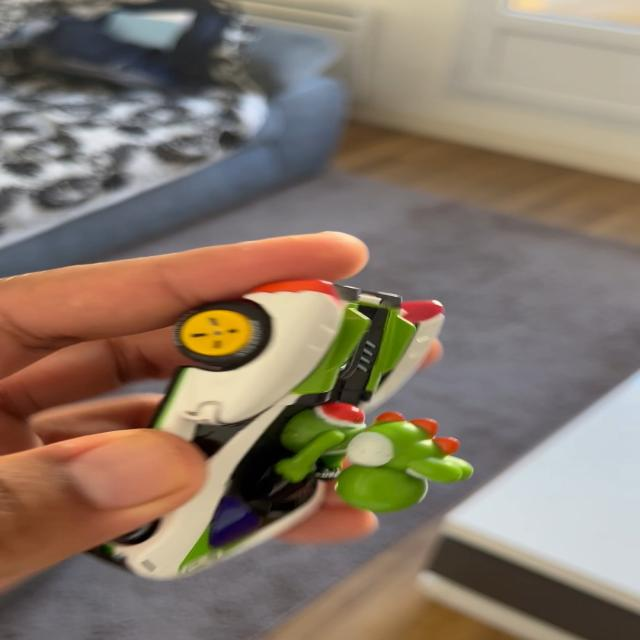yoshi: (102, 263, 486, 602)
